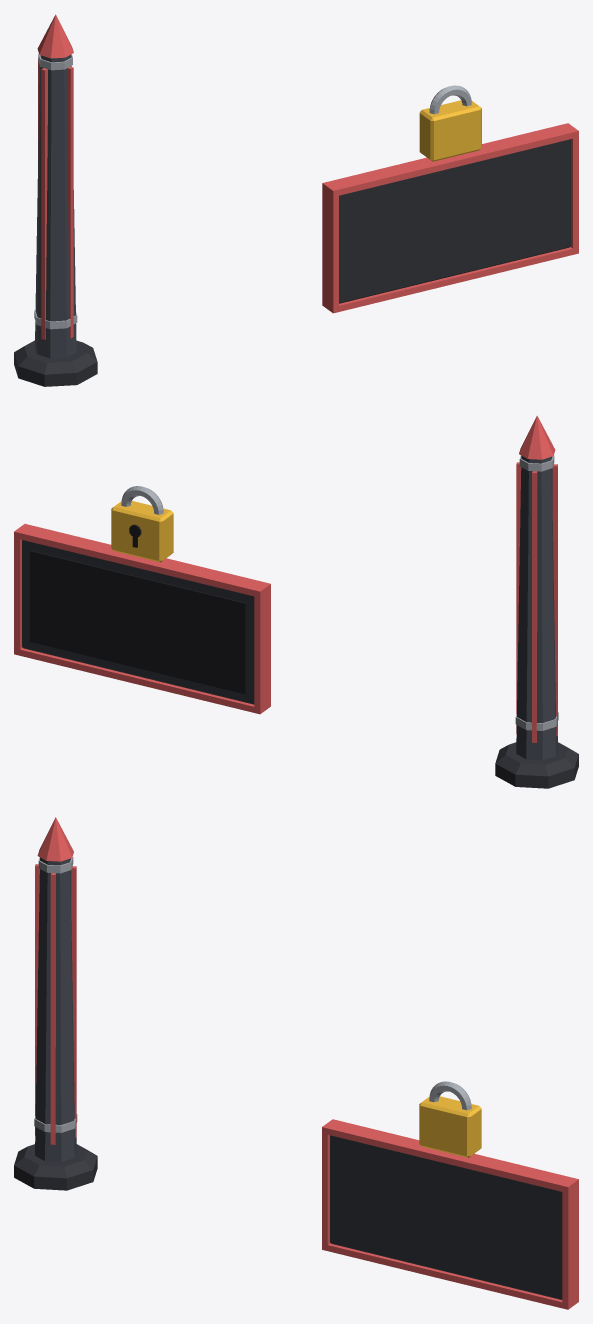
Rendered from Shared.fbx.
The picture shows the model from 3 angles, top to bottom: view 1: azimuth 30°, elevation 25°; view 2: azimuth 150°, elevation 25°; view 3: azimuth 330°, elevation 25°; orthographic projection.
Parts seen in each view (by area): view 1: PricePlaque_Charcoal, PricePlaque_Accent, BorderPylon_DarkMetal, BorderPylon_Accent, PricePlaque_Gold, BorderPylon_Charcoal, BorderPylon_Metal, PricePlaque_Metal; view 2: PricePlaque_Black, BorderPylon_DarkMetal, PricePlaque_Accent, PricePlaque_Charcoal, BorderPylon_Accent, PricePlaque_Gold, BorderPylon_Charcoal, BorderPylon_Metal, PricePlaque_Metal; view 3: PricePlaque_Charcoal, BorderPylon_DarkMetal, PricePlaque_Accent, BorderPylon_Accent, PricePlaque_Gold, BorderPylon_Charcoal, BorderPylon_Metal.
Boxes of the visible parts, x1=… form: PricePlaque_Charcoal: x1=339, y1=139, x2=570, y2=303; PricePlaque_Accent: x1=322, y1=123, x2=578, y2=313; BorderPylon_DarkMetal: x1=35, y1=54, x2=76, y2=358; BorderPylon_Accent: x1=37, y1=14, x2=73, y2=339; PricePlaque_Gold: x1=419, y1=100, x2=481, y2=161; BorderPylon_Charcoal: x1=14, y1=340, x2=97, y2=386; BorderPylon_Metal: x1=34, y1=53, x2=77, y2=329; PricePlaque_Metal: x1=429, y1=85, x2=471, y2=114; PricePlaque_Black: x1=29, y1=524, x2=246, y2=694; BorderPylon_DarkMetal: x1=516, y1=455, x2=557, y2=760; PricePlaque_Accent: x1=14, y1=524, x2=270, y2=714; PricePlaque_Charcoal: x1=22, y1=540, x2=254, y2=704; BorderPylon_Accent: x1=516, y1=415, x2=557, y2=742; PricePlaque_Gold: x1=111, y1=501, x2=173, y2=562; BorderPylon_Charcoal: x1=495, y1=742, x2=578, y2=788; BorderPylon_Metal: x1=515, y1=455, x2=558, y2=730; PricePlaque_Metal: x1=121, y1=486, x2=163, y2=514; PricePlaque_Charcoal: x1=330, y1=1135, x2=562, y2=1299; BorderPylon_DarkMetal: x1=35, y1=857, x2=76, y2=1161; PricePlaque_Accent: x1=322, y1=1119, x2=578, y2=1309; BorderPylon_Accent: x1=35, y1=817, x2=76, y2=1144; PricePlaque_Gold: x1=419, y1=1096, x2=481, y2=1157; BorderPylon_Charcoal: x1=14, y1=1144, x2=97, y2=1190; BorderPylon_Metal: x1=34, y1=857, x2=77, y2=1132.
Size of the model in its own units: 47.4 by 29.5 by 6.4.
